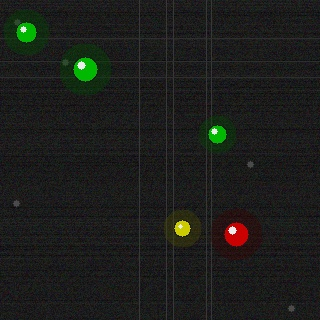green_normal: (71, 55, 99, 83), (14, 20, 38, 44), (206, 123, 228, 145)
red_fault: (222, 220, 250, 248)
yellow_warning: (172, 218, 192, 238)
